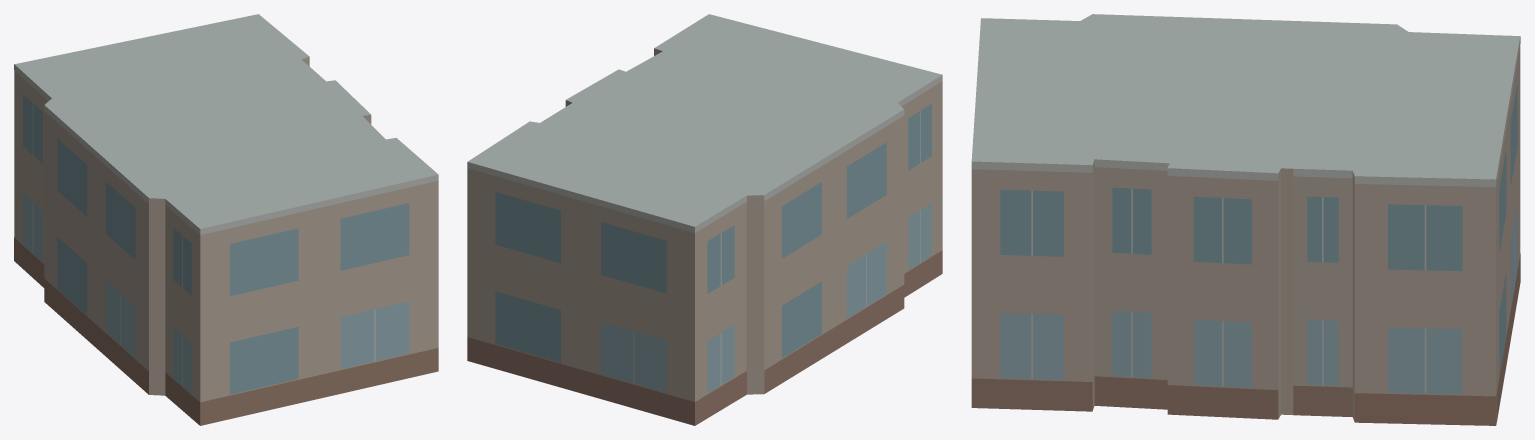
Rendered from survey-upis-32933481.glb.
The picture shows the model from 3 angles, left to right: view 1: azimuth 30°, elevation 25°; view 2: azimuth 150°, elevation 25°; view 3: azimuth 270°, elevation 25°; orthographic projection. The views are drawn at different scales.
Visible parts, largest first — view 1: survey-upis-32933481.tmp; view 2: survey-upis-32933481.tmp; view 3: survey-upis-32933481.tmp.
Part boxes in pixels (<box>): survey-upis-32933481.tmp: <box>14,14,438,425</box>; survey-upis-32933481.tmp: <box>467,14,942,425</box>; survey-upis-32933481.tmp: <box>971,14,1520,425</box>.
Size of the model in its own units: 11.32 by 7.85 by 15.86.
